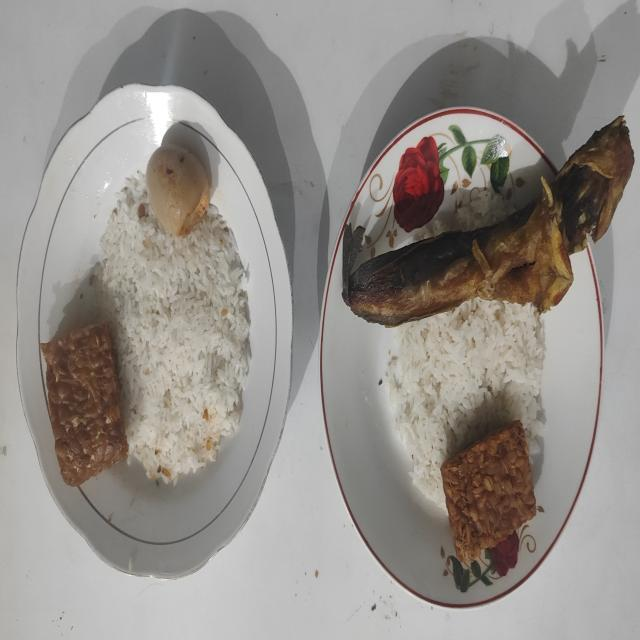nasi_putih: (96, 175, 251, 486), (383, 300, 544, 508), (414, 188, 516, 240)
tempe_goreng: (40, 323, 128, 488), (441, 421, 536, 562)
